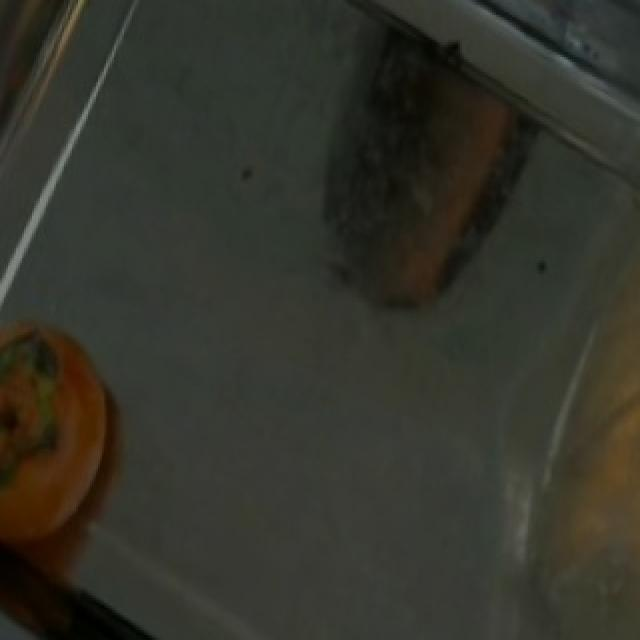Fruit: (0, 315, 140, 571)
